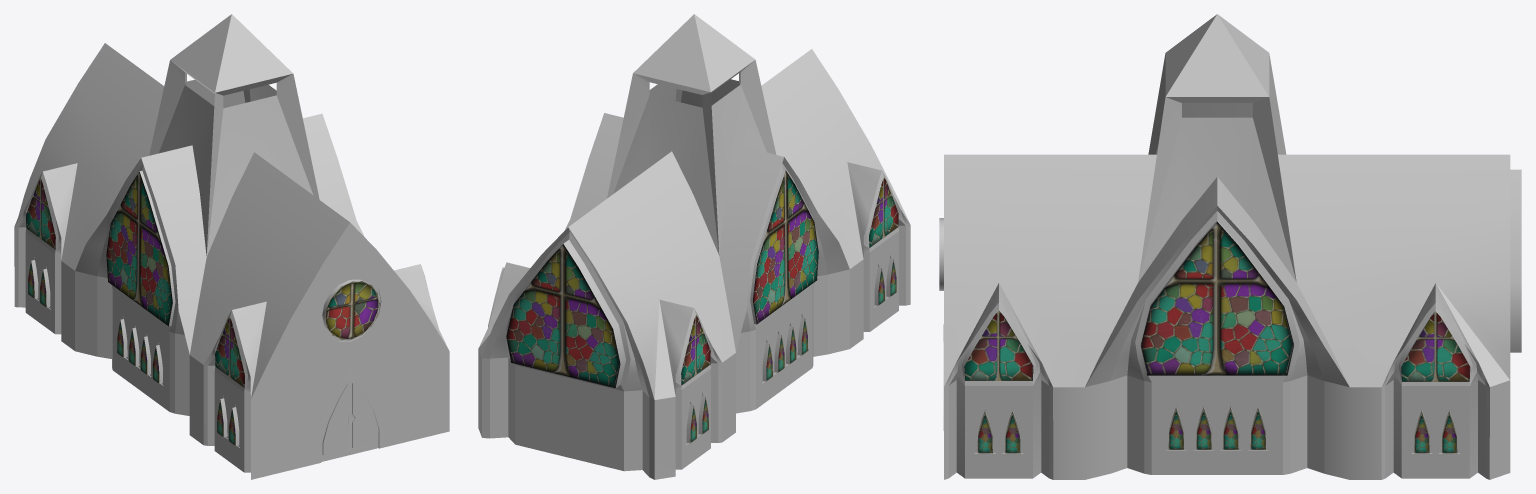
File: ruraltown_chapel_int.fbx
The picture shows the model from 3 angles, left to right: view 1: azimuth 30°, elevation 25°; view 2: azimuth 150°, elevation 25°; view 3: azimuth 270°, elevation 25°; orthographic projection. The views are drawn at different scales.
Parts seen in each view (by area): view 1: ruraltown_chapel_int; view 2: ruraltown_chapel_int; view 3: ruraltown_chapel_int.
Part boxes in pixels (x1,y1,x2,y2): ruraltown_chapel_int: (14,14,449,479); ruraltown_chapel_int: (478,14,910,479); ruraltown_chapel_int: (939,14,1521,479).
Size of the model in its own units: 20.89 by 35.43 by 45.63.
